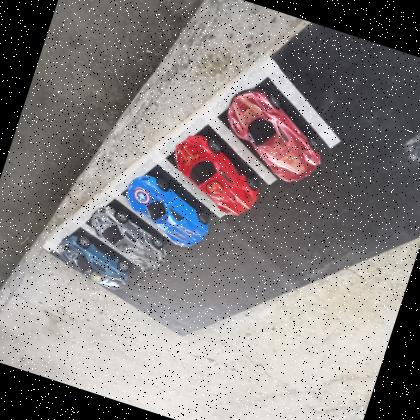Car: (210, 82, 335, 190), (159, 128, 269, 222), (115, 170, 219, 254), (77, 201, 175, 278), (48, 231, 136, 294)
